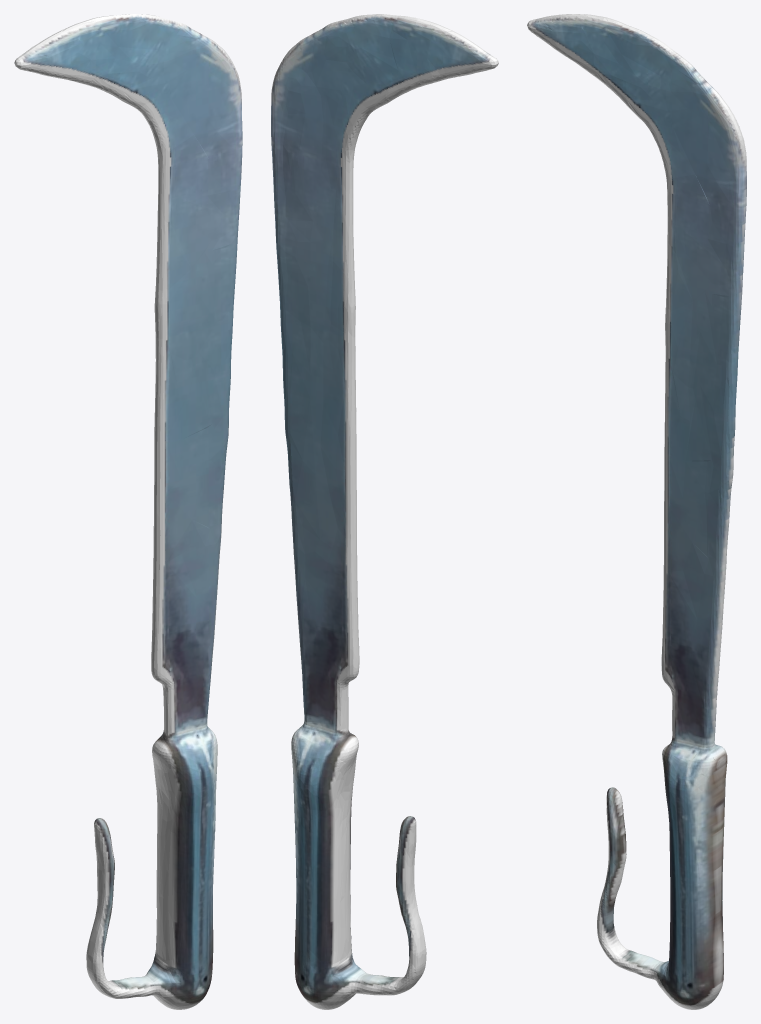
The model's file is 1775028846029-Billhook.glb.
3 renders of one model, left to right at view 1: azimuth 30°, elevation 25°; view 2: azimuth 150°, elevation 25°; view 3: azimuth 330°, elevation 25°, orthographic. The views are drawn at different scales.
Visible parts, largest first — view 1: geometry_0; view 2: geometry_0; view 3: geometry_0.
Boxes of the visible parts, x1,y1,x2,y2 form: geometry_0: (14, 14, 242, 1009); geometry_0: (271, 14, 498, 1009); geometry_0: (527, 14, 746, 1009).
Bounding box in the file's own units: 0.4675 × 1.99 × 0.1281.
Materials: 1 (1 with a texture image).
